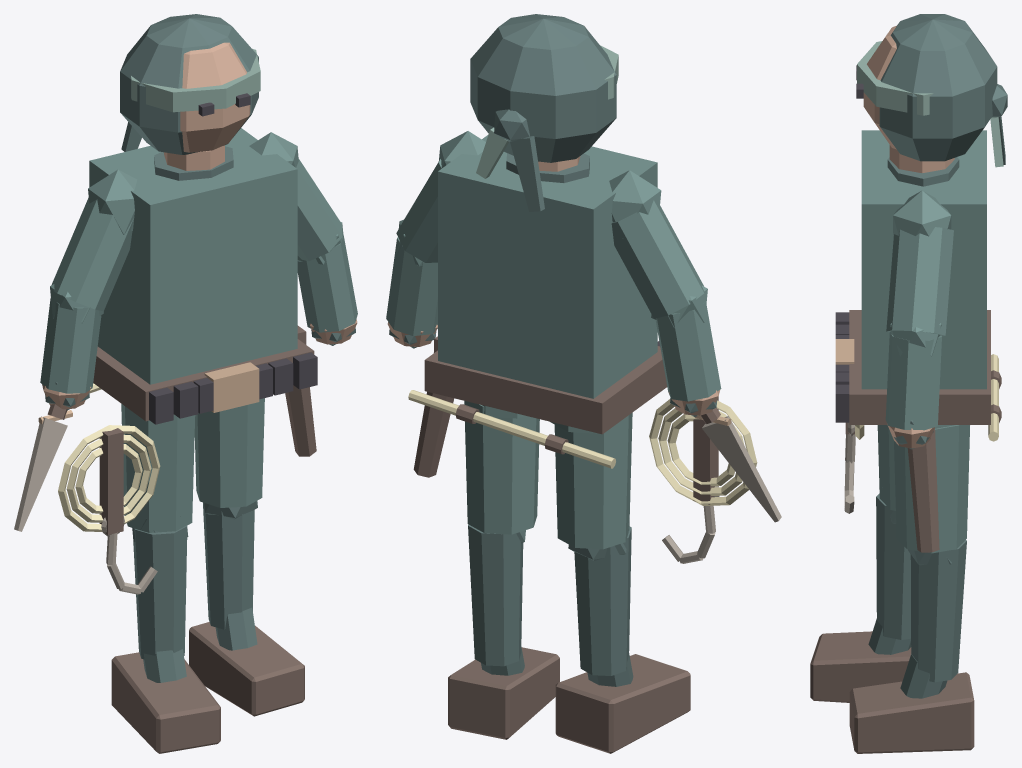
File: chr_f1_marine_pixel_v003.glb
3 renders of one model, left to right at view 1: azimuth 30°, elevation 25°; view 2: azimuth 150°, elevation 25°; view 3: azimuth 270°, elevation 25°, orthographic. The views are drawn at different scales.
Visible parts, largest first — view 1: BASE_MarineV003_Torso, BASE_MarineV003_WaxedHood, BASE_MarineV003_Boot_-1, BASE_MarineV003_Boot_1, BASE_MarineV003_Thigh_1, BASE_MarineV003_Thigh_-1, BASE_MarineV003_Shin_-1, BASE_MarineV003_UpperArm_-1, BASE_MarineV003_Shin_1, BASE_MarineV003_Head, BASE_MarineV003_Forearm_-1, BASE_MarineV003_Forearm_1 (+20 smaller); view 2: BASE_MarineV003_Torso, BASE_MarineV003_WaxedHood, BASE_MarineV003_Belt, BASE_MarineV003_Boot_-1, BASE_MarineV003_Thigh_-1, BASE_MarineV003_Thigh_1, BASE_MarineV003_Boot_1, BASE_MarineV003_Shin_1, BASE_MarineV003_Shin_-1, BASE_MarineV003_UpperArm_-1, BASE_MarineV003_Forearm_-1, BASE_MarineV003_Forearm_1 (+14 smaller); view 3: BASE_MarineV003_Torso, BASE_MarineV003_WaxedHood, BASE_MarineV003_Boot_1, BASE_MarineV003_Shin_1, BASE_MarineV003_UpperArm_1, BASE_MarineV003_Thigh_1, BASE_MarineV003_Boot_-1, BASE_MarineV003_Forearm_1, BASE_MarineV003_Belt, BASE_MarineV003_Shin_-1, V003_DETAIL_KnifeSheath, V003_CONN_Shoulder_L (+14 smaller).
Boxes of the visible parts, box(x1,y1,x2,y2) form: BASE_MarineV003_Torso: box(89, 128, 297, 384); BASE_MarineV003_WaxedHood: box(120, 14, 258, 154); BASE_MarineV003_Boot_-1: box(111, 652, 220, 753); BASE_MarineV003_Boot_1: box(189, 622, 304, 716); BASE_MarineV003_Thigh_1: box(194, 398, 264, 507); BASE_MarineV003_Thigh_-1: box(121, 404, 195, 532); BASE_MarineV003_Shin_-1: box(133, 525, 187, 659); BASE_MarineV003_UpperArm_-1: box(51, 198, 134, 311); BASE_MarineV003_Shin_1: box(203, 502, 254, 629); BASE_MarineV003_Head: box(180, 42, 250, 152); BASE_MarineV003_Forearm_-1: box(40, 297, 101, 393); BASE_MarineV003_Forearm_1: box(297, 234, 357, 332); BASE_MarineV003_Torso: box(438, 134, 657, 398); BASE_MarineV003_WaxedHood: box(470, 14, 616, 162); BASE_MarineV003_Belt: box(424, 346, 667, 434); BASE_MarineV003_Boot_-1: box(555, 654, 690, 753); BASE_MarineV003_Thigh_-1: box(554, 412, 632, 549); BASE_MarineV003_Thigh_1: box(464, 401, 539, 534); BASE_MarineV003_Boot_1: box(448, 647, 559, 739); BASE_MarineV003_Shin_1: box(468, 524, 523, 666); BASE_MarineV003_Shin_-1: box(574, 526, 631, 675); BASE_MarineV003_UpperArm_-1: box(611, 200, 704, 318); BASE_MarineV003_Forearm_-1: box(655, 301, 721, 401); BASE_MarineV003_Forearm_1: box(386, 237, 437, 336); BASE_MarineV003_Torso: box(861, 130, 986, 389); BASE_MarineV003_WaxedHood: box(879, 14, 997, 161); BASE_MarineV003_Boot_1: box(849, 672, 974, 753); BASE_MarineV003_Shin_1: box(910, 540, 966, 682); BASE_MarineV003_UpperArm_1: box(886, 227, 953, 336); BASE_MarineV003_Thigh_1: box(894, 425, 969, 553); BASE_MarineV003_Boot_-1: box(810, 631, 911, 702); BASE_MarineV003_Forearm_1: box(885, 332, 941, 430); BASE_MarineV003_Belt: box(849, 310, 990, 424); BASE_MarineV003_Shin_-1: box(876, 493, 910, 639); V003_DETAIL_KnifeSheath: box(907, 428, 939, 552); V003_CONN_Shoulder_L: box(893, 190, 951, 236).
Bounding box in the file's own units: 1.01 × 1.84 × 0.4728.
